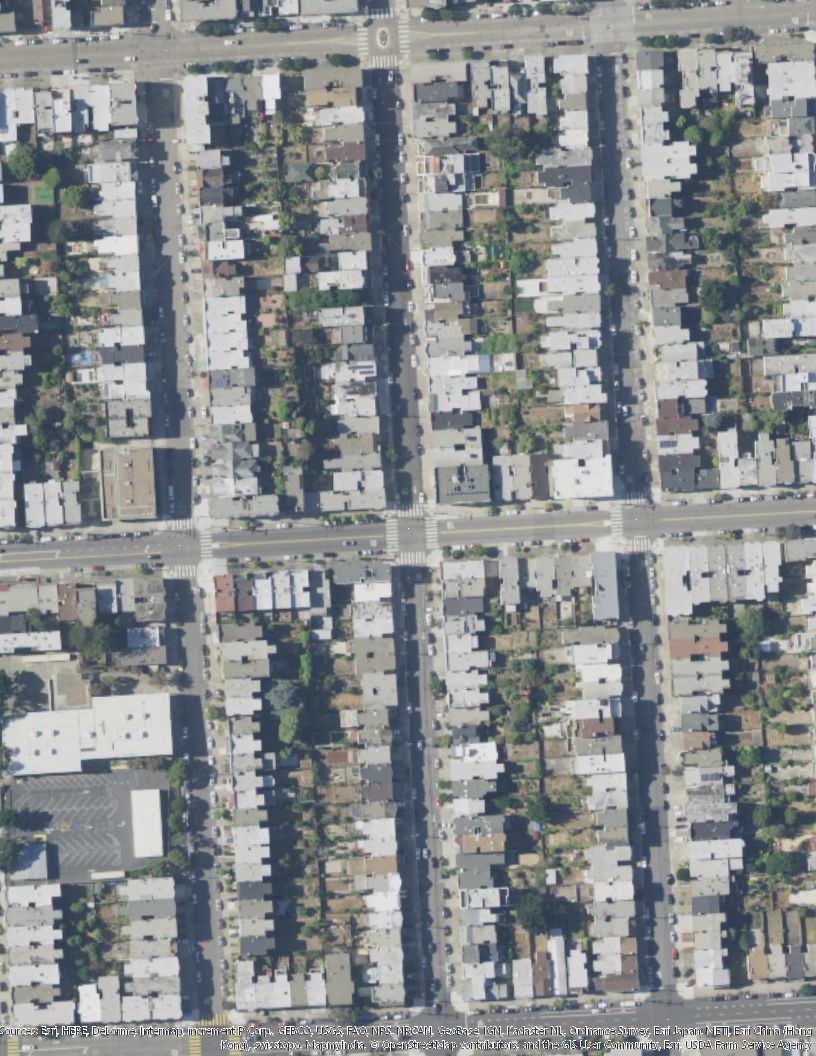zebracross: (383, 519, 400, 551), (398, 502, 426, 520), (397, 19, 411, 53), (174, 562, 199, 580), (355, 24, 368, 58), (626, 489, 652, 506), (425, 518, 439, 549), (199, 531, 213, 561), (372, 54, 401, 68), (400, 550, 427, 565), (610, 507, 622, 538), (630, 536, 654, 551), (199, 1012, 229, 1024), (169, 516, 193, 530), (369, 6, 394, 19), (189, 1037, 202, 1054)
